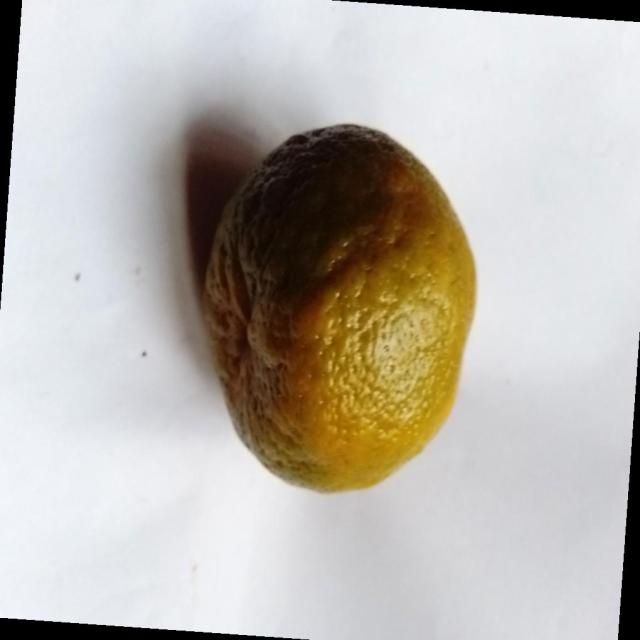fresh orange: (199, 121, 478, 494)
